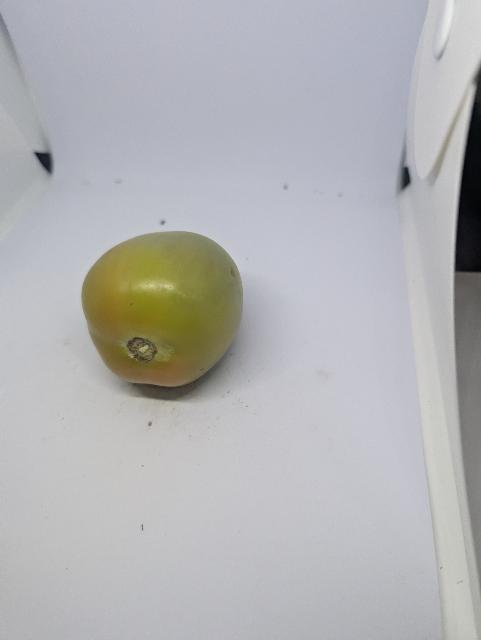breaker: (77, 225, 250, 397)
